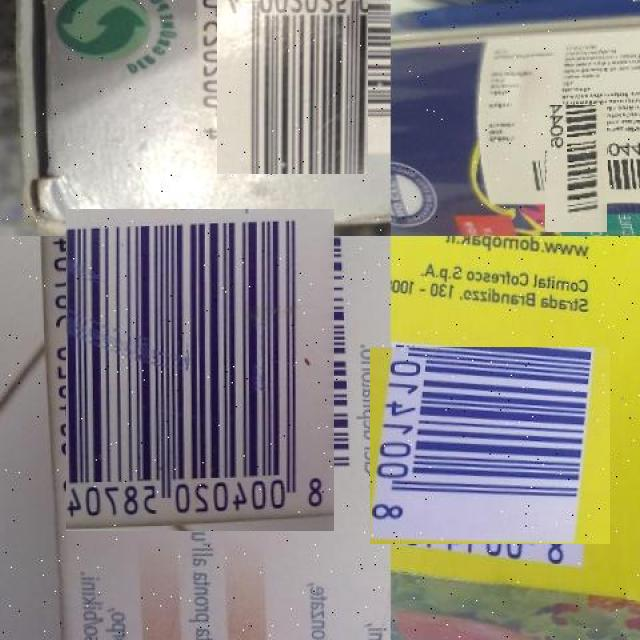Barcode: (52, 223, 348, 518), (380, 336, 600, 555), (205, 0, 380, 162), (529, 121, 624, 216)
